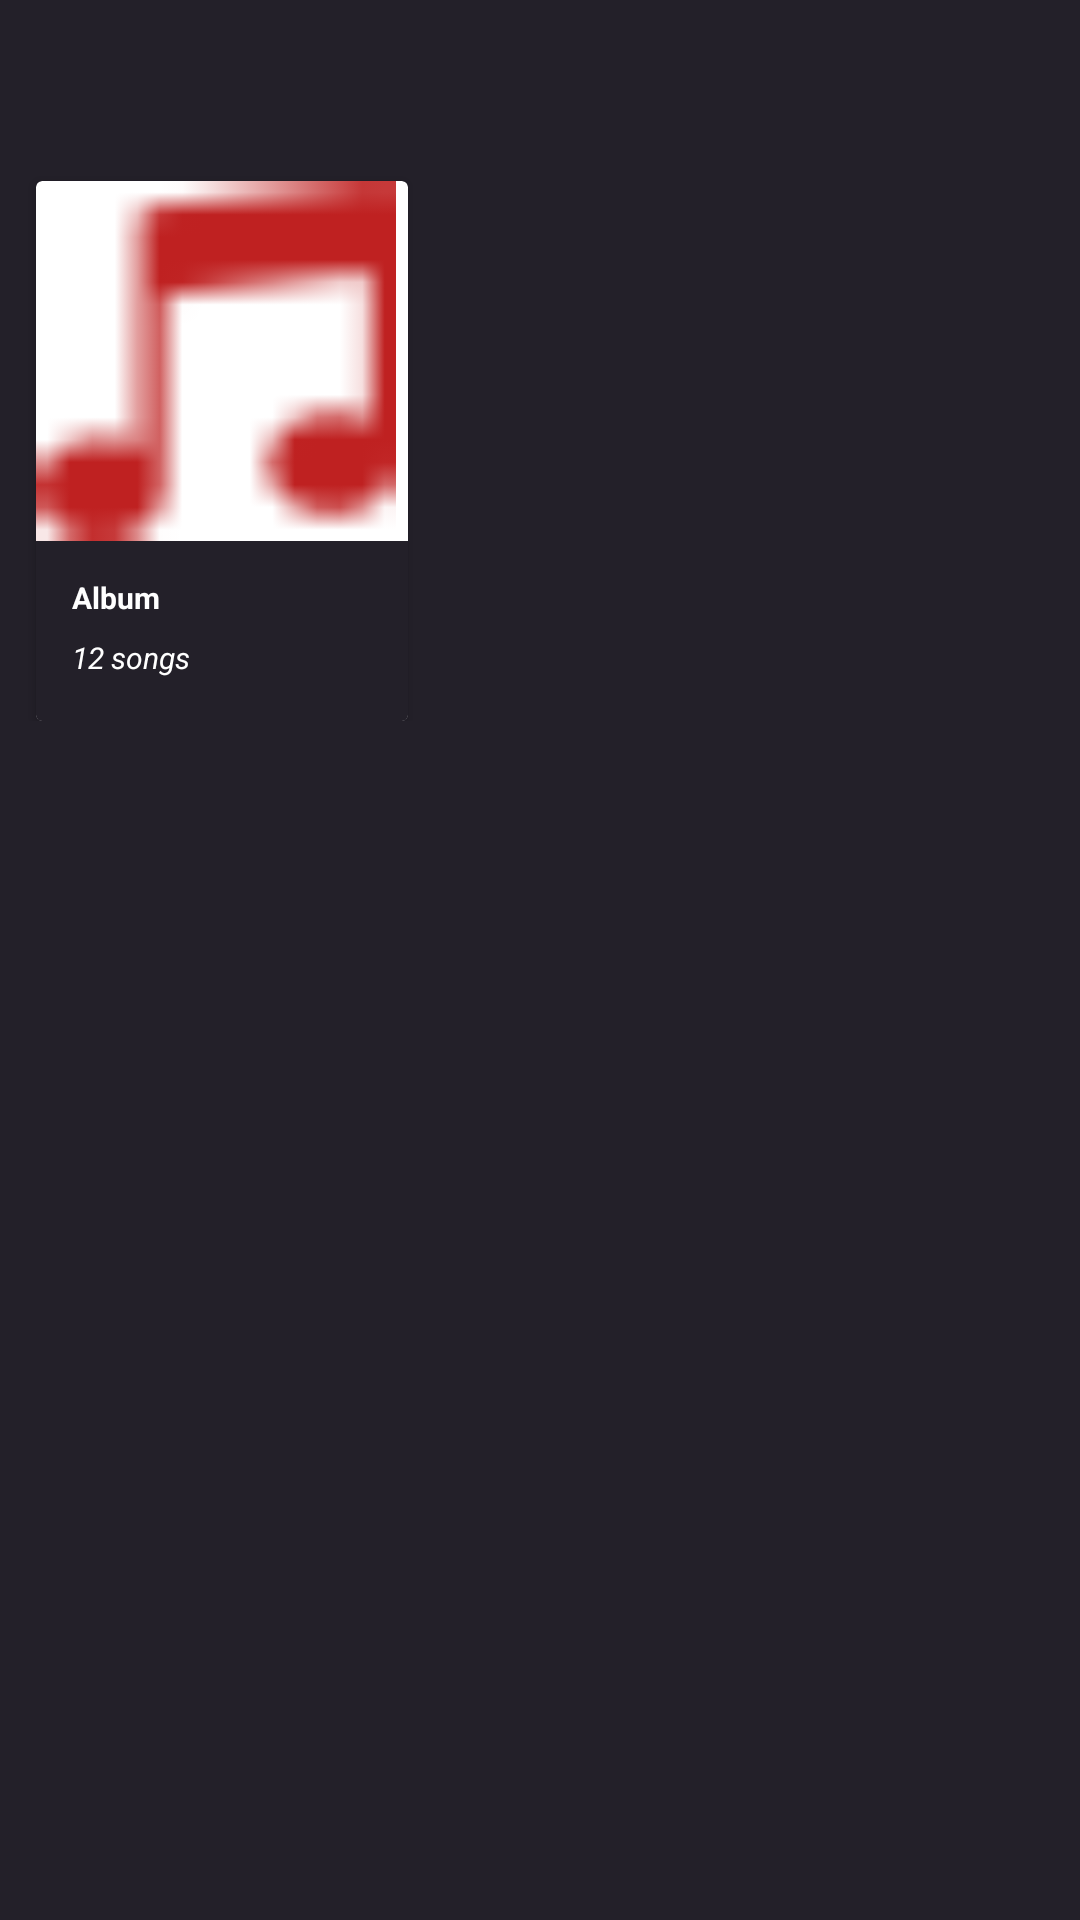

Locate icon controls on the screen. Image size 1080px×1920px, boxes as (x1, y1, x2, y2).
music: (36, 181, 396, 541)
